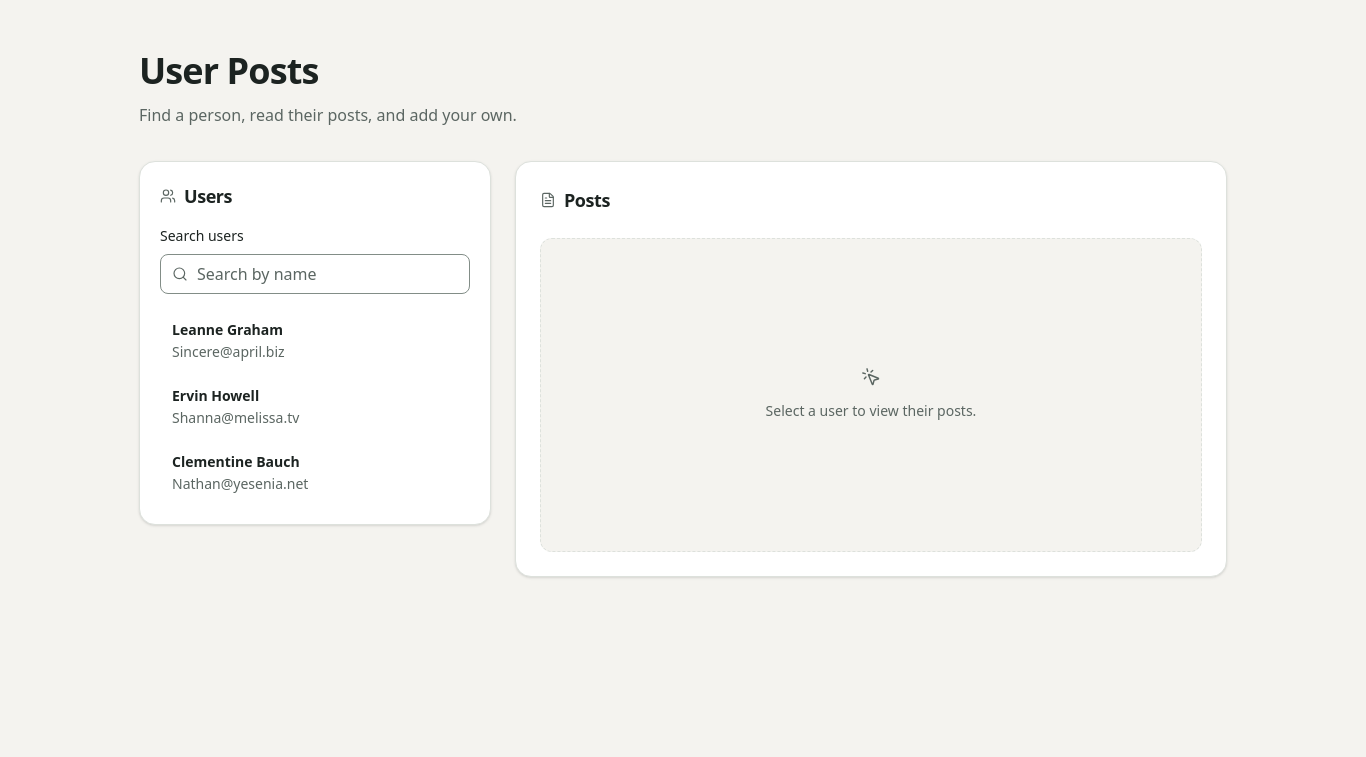
Scenario: App › filters users and preserves the selection when the search changes
This screenshot has width=1366, height=757.
In the search field labelled "Search users": {"x": 315, "y": 274} [160,254,470,294], type "ervin"
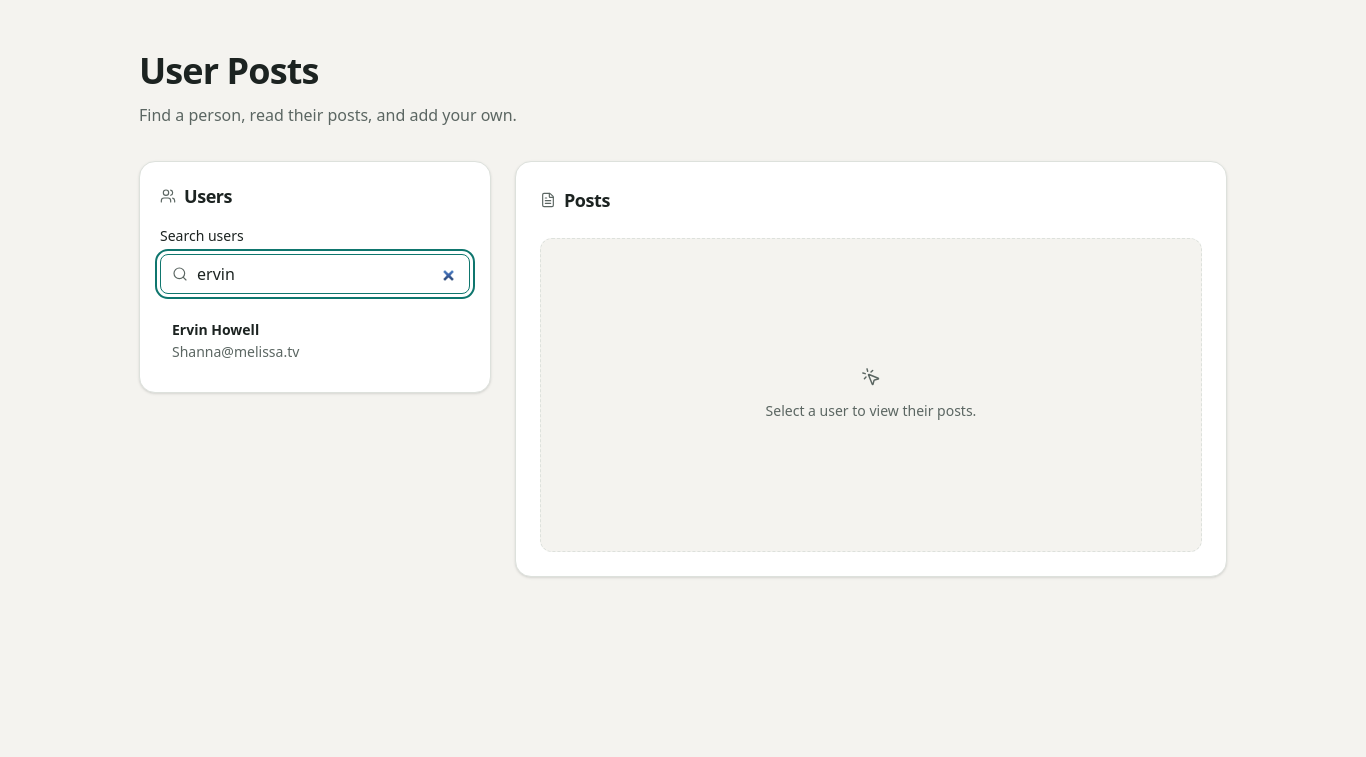
Expected: the button "Leanne Graham" is gone
Click the button "Ervin Howell Shanna@melissa.tv": {"x": 216, "y": 330} [160,310,470,372]
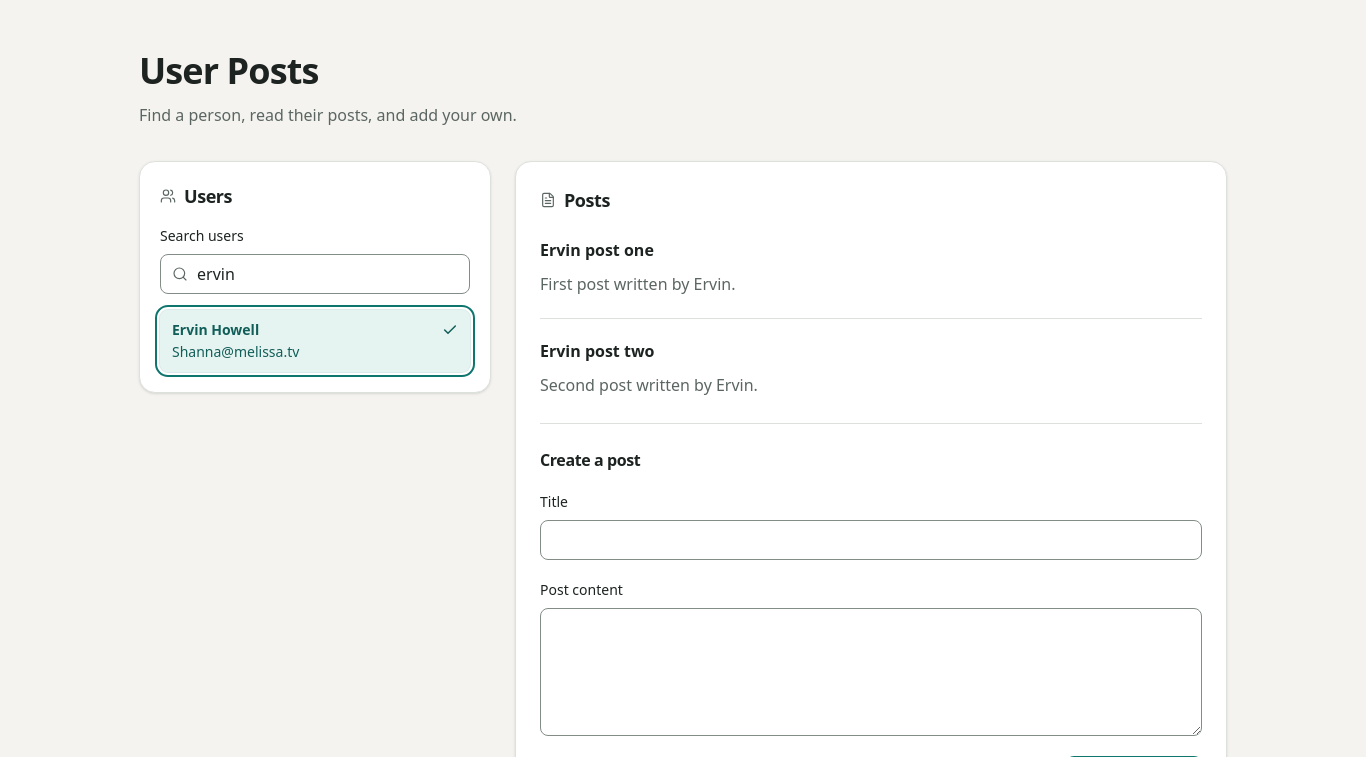
Expected: the heading "Ervin post one" is shown, [540,239,654,261]
Clear the search field labelled "Search users": {"x": 315, "y": 274} [160,254,470,294]
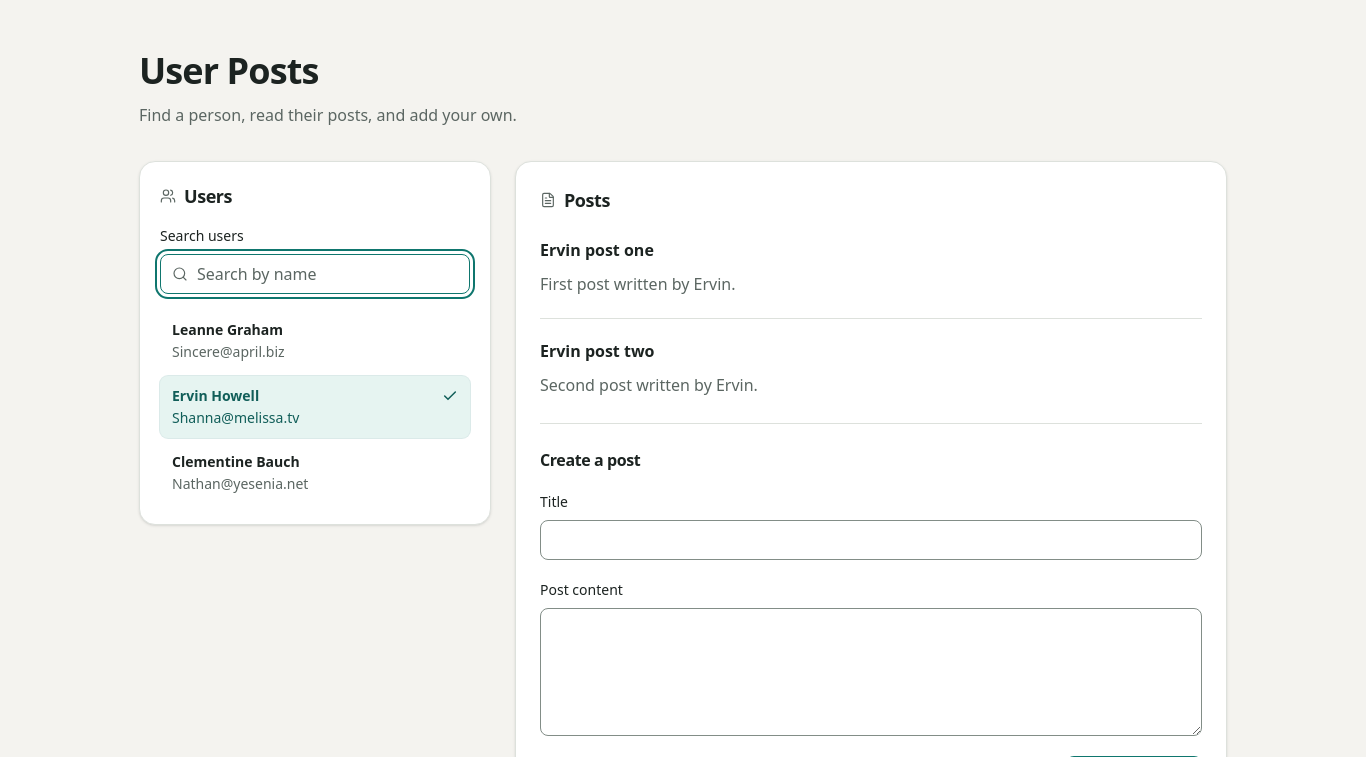
Expected: the heading "Ervin post one" is shown, [540,239,654,261]
Expected: the button "Leanne Graham Sincere@april.biz" is shown, [160,310,470,372]
